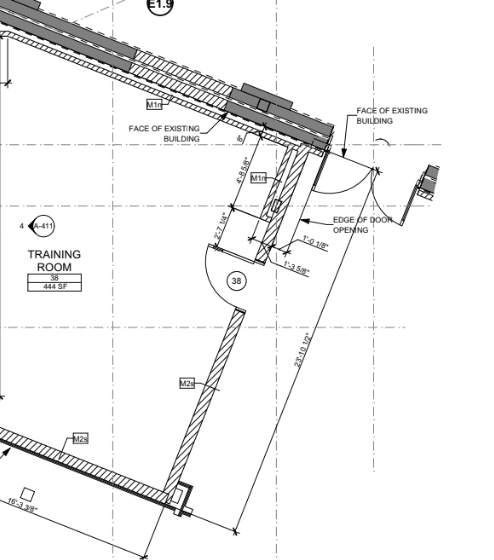door: (202, 240, 261, 316)
double door: (310, 151, 418, 226)
